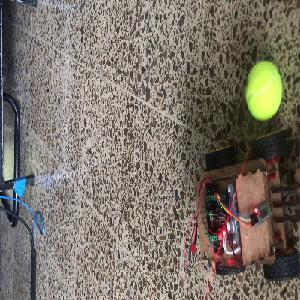Ball: (244, 61, 283, 121)
Robot: (194, 128, 298, 280)
